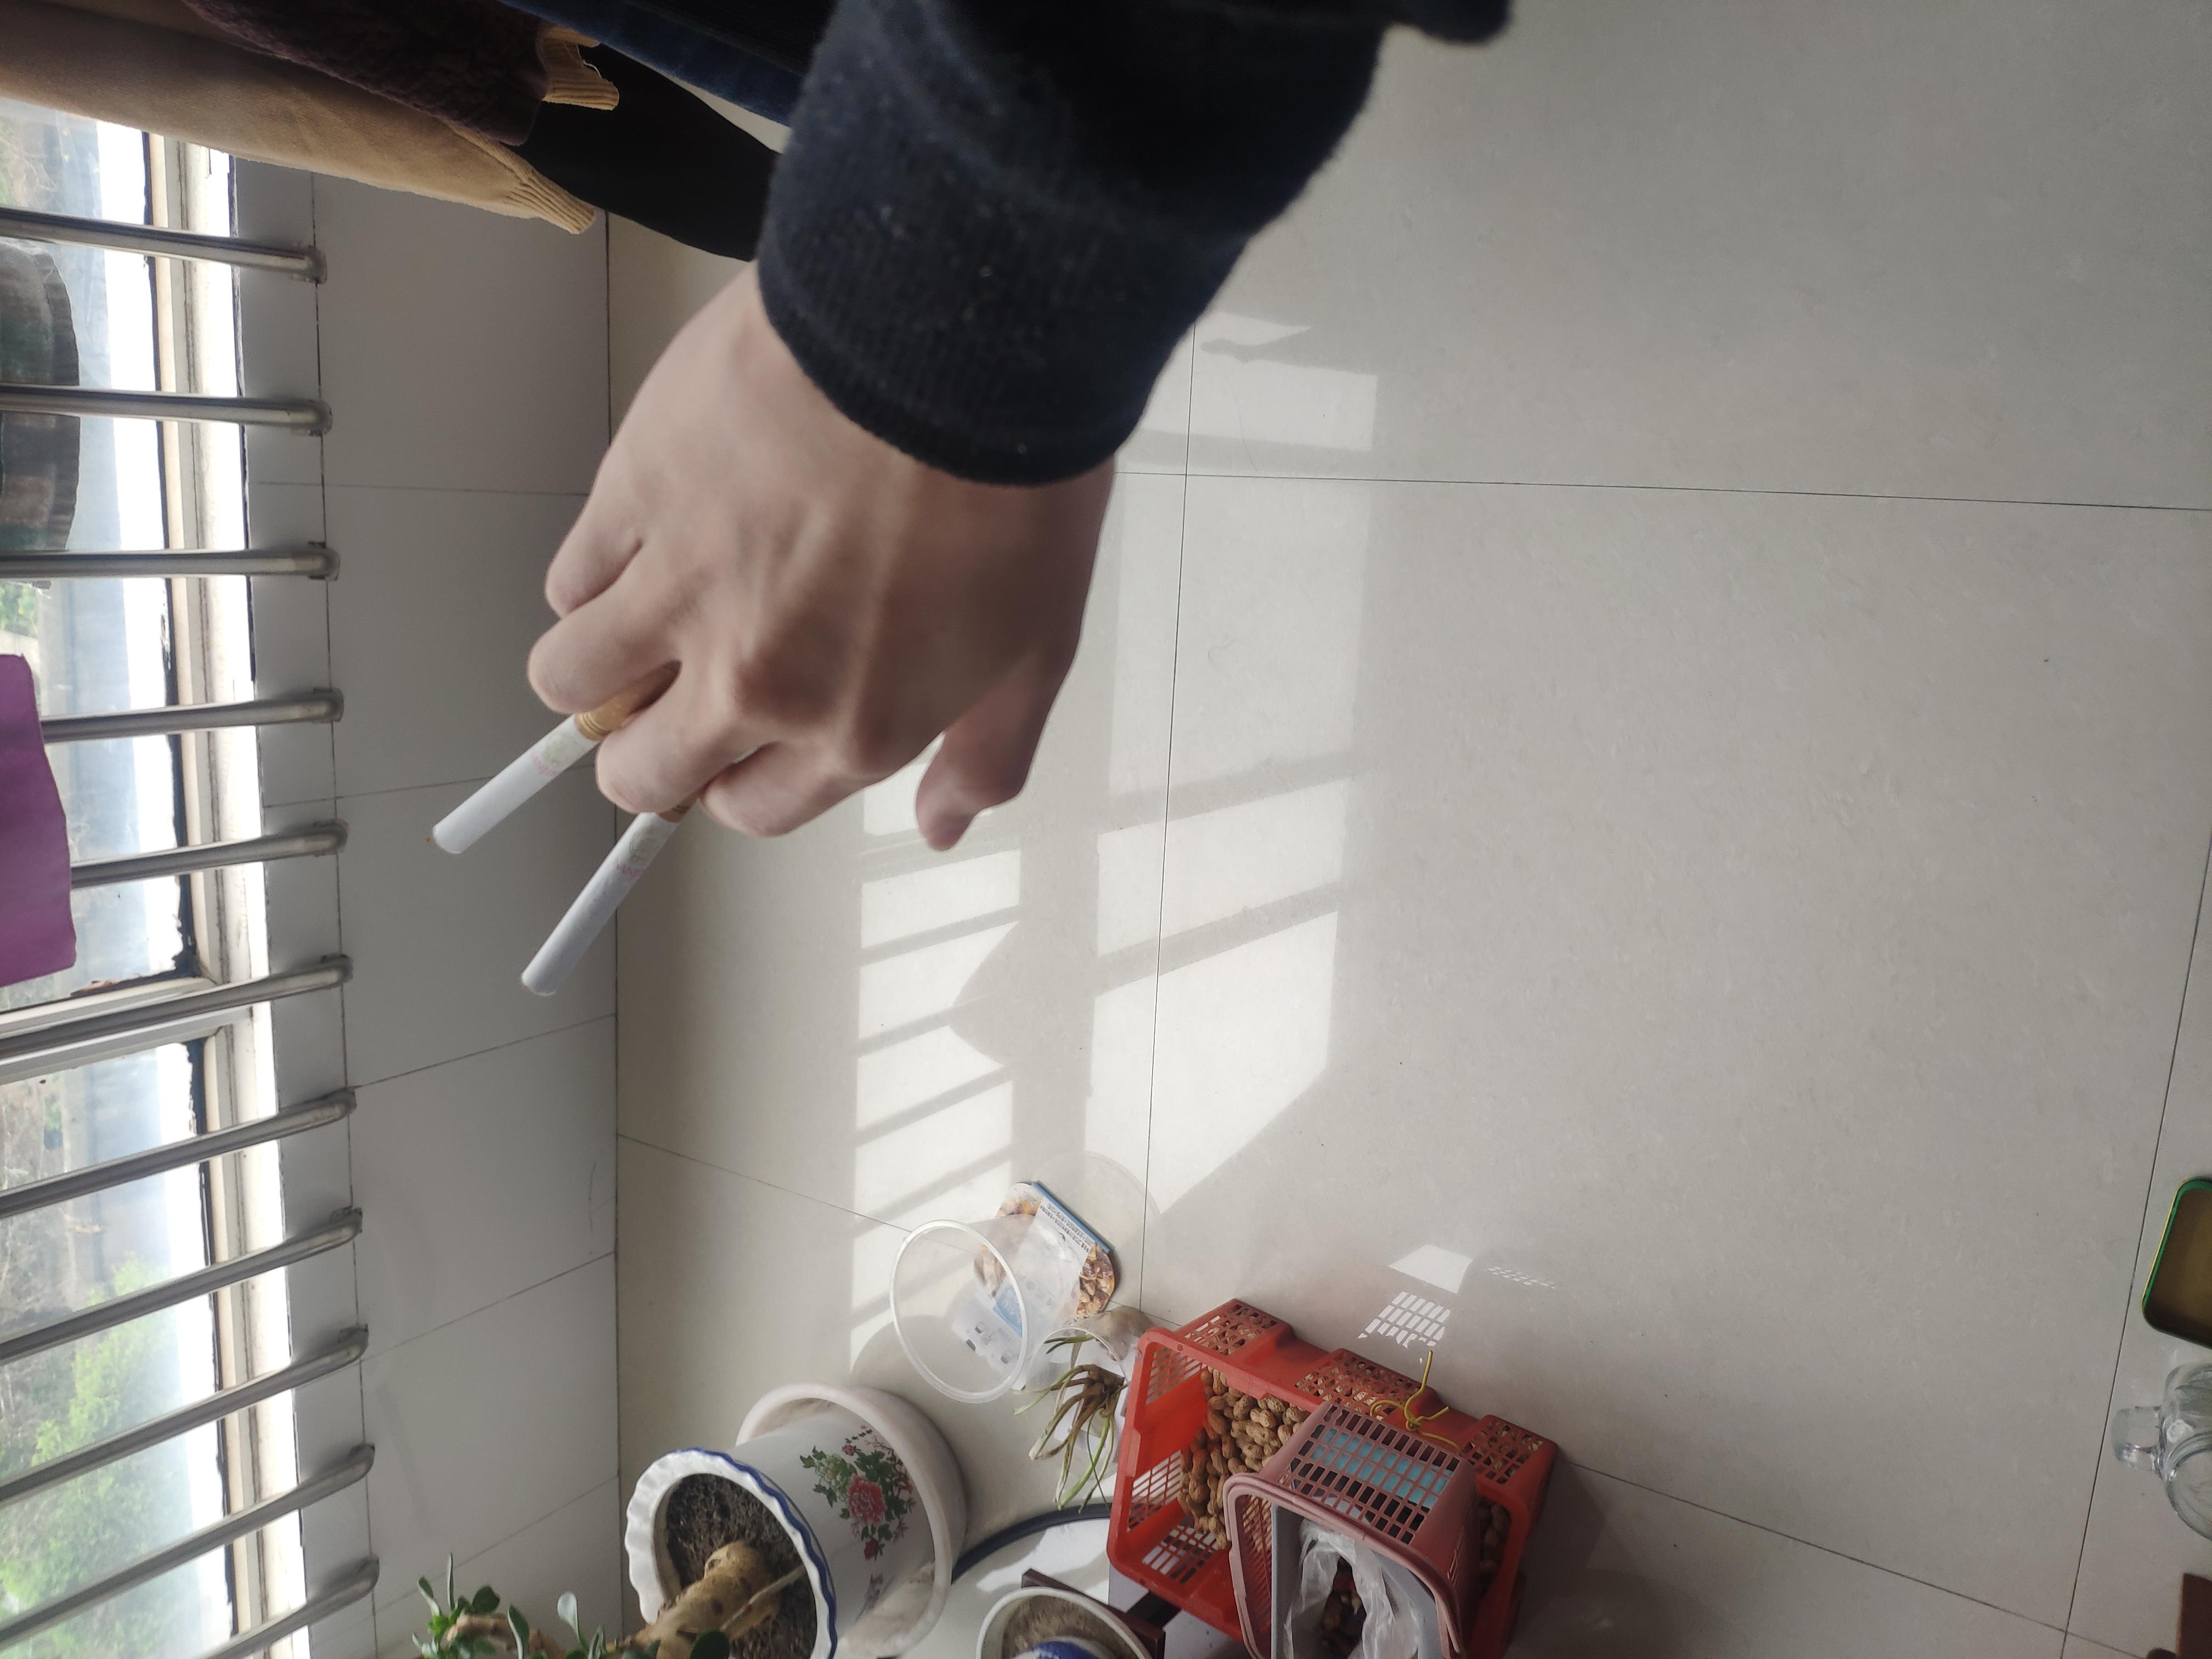smoke: (885, 390, 1214, 549), (1071, 322, 1329, 509)
